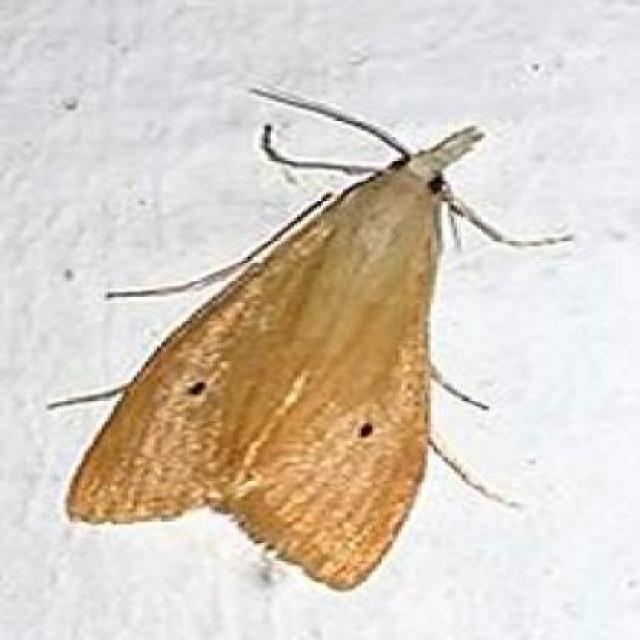stem-borer: (40, 73, 582, 595)
